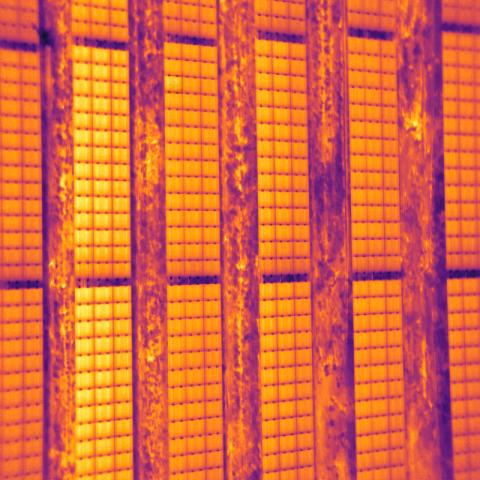fault: (165, 75, 183, 94)
